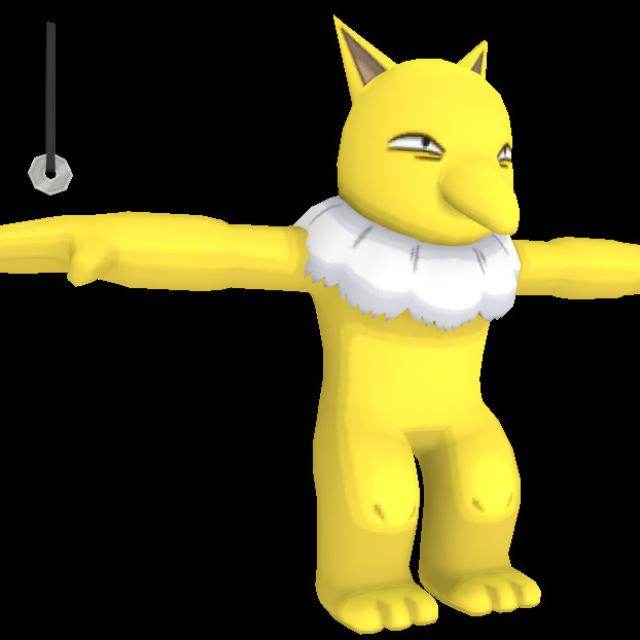Hypno: (278, 14, 555, 632)
